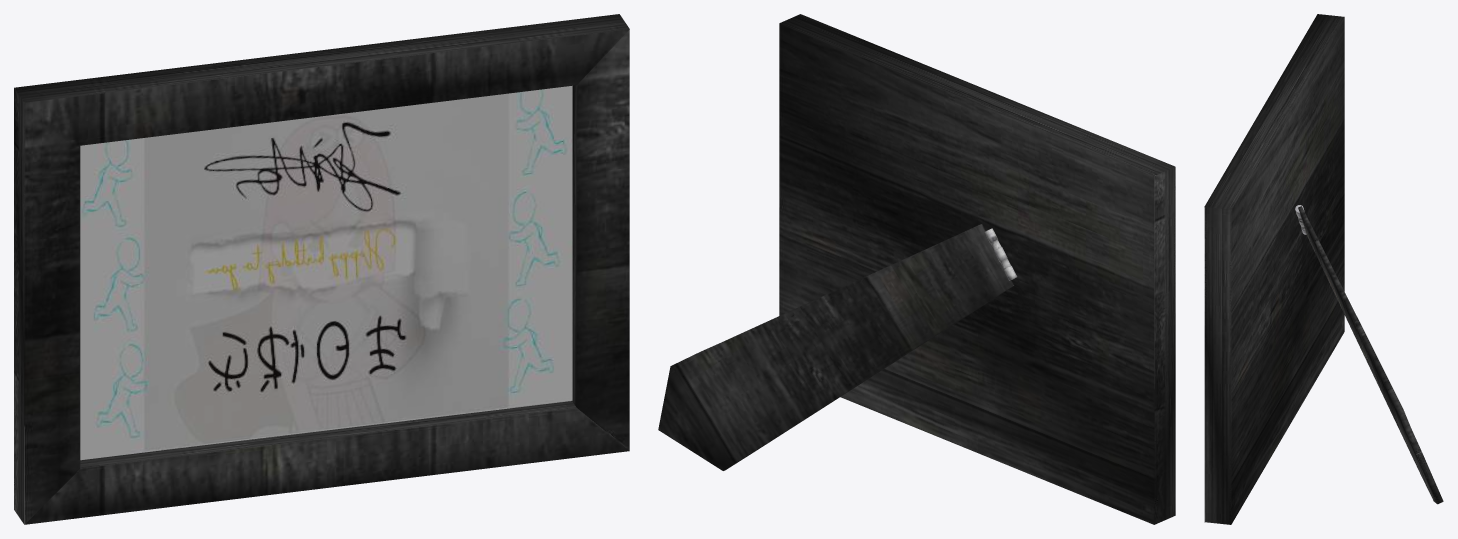
3 views of the same model, side by side, from view 1: azimuth 30°, elevation 25°; view 2: azimuth 150°, elevation 25°; view 3: azimuth 270°, elevation 25° (orthographic). The views are drawn at different scales.
Size of the model in its own units: 0.2677 by 0.2 by 0.1368.
Materials: 1 (1 with a texture image).
